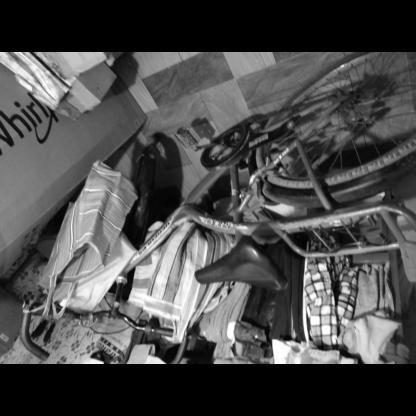Bicycle: (0, 66, 414, 315)
